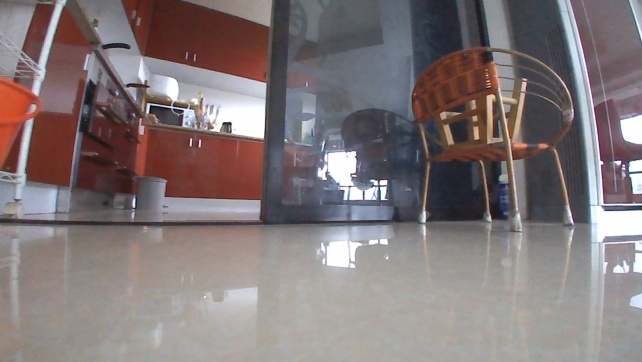cupboard: (0, 0, 264, 208)
